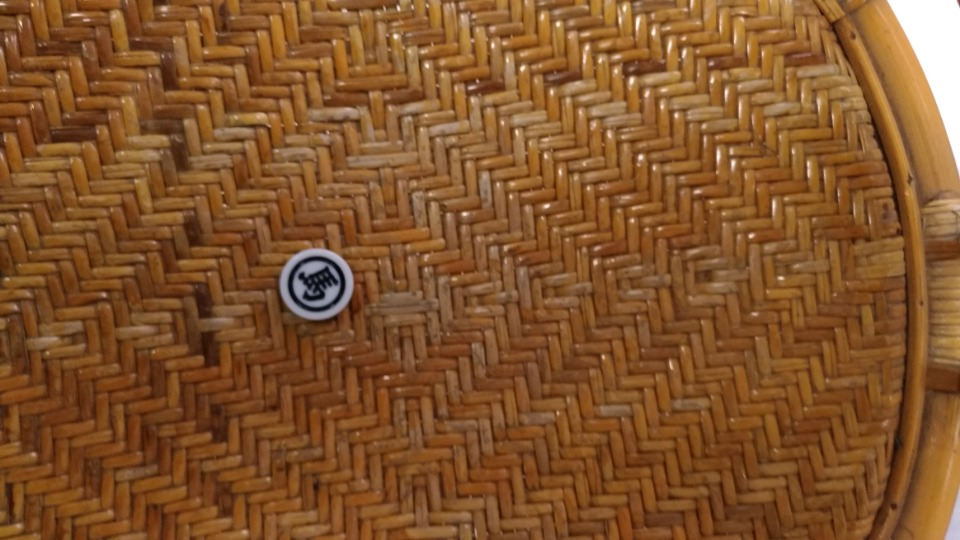b-knight: (256, 237, 371, 333)
